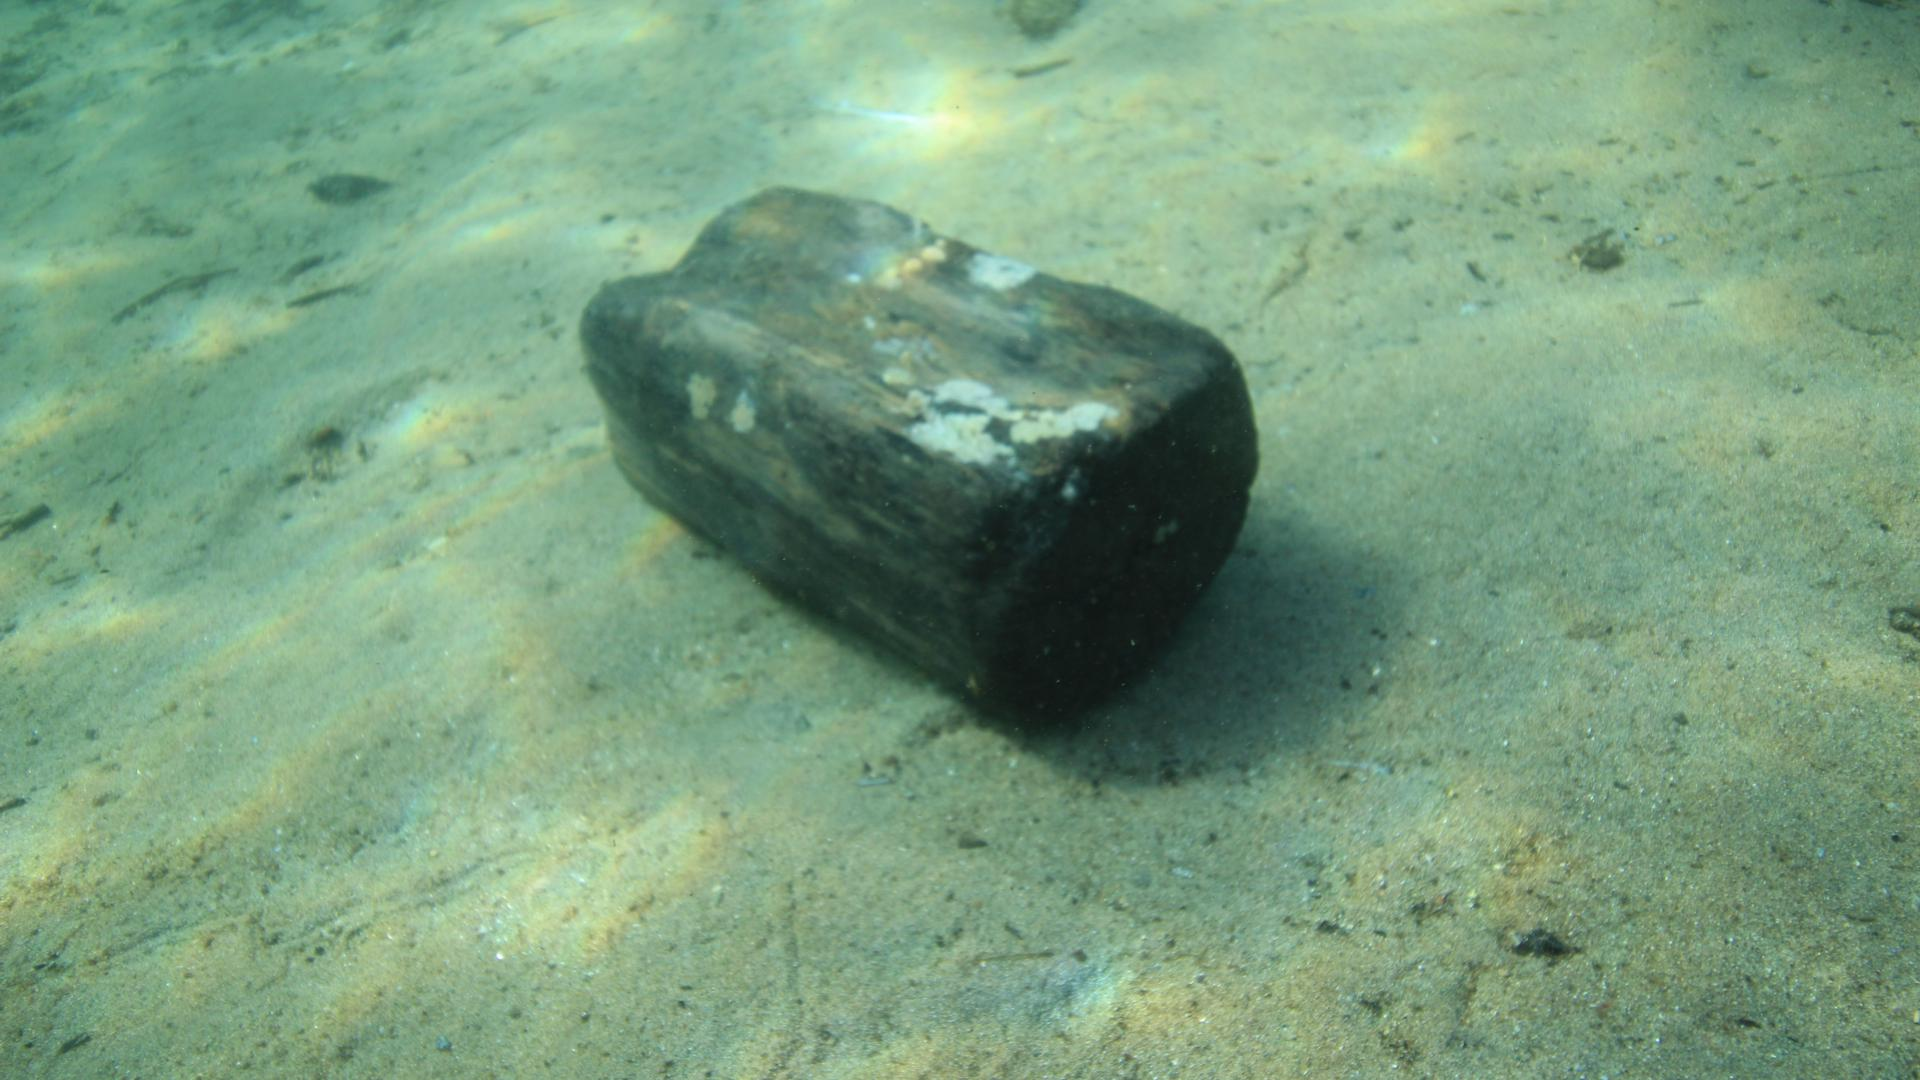wood: (580, 185, 1261, 732)
